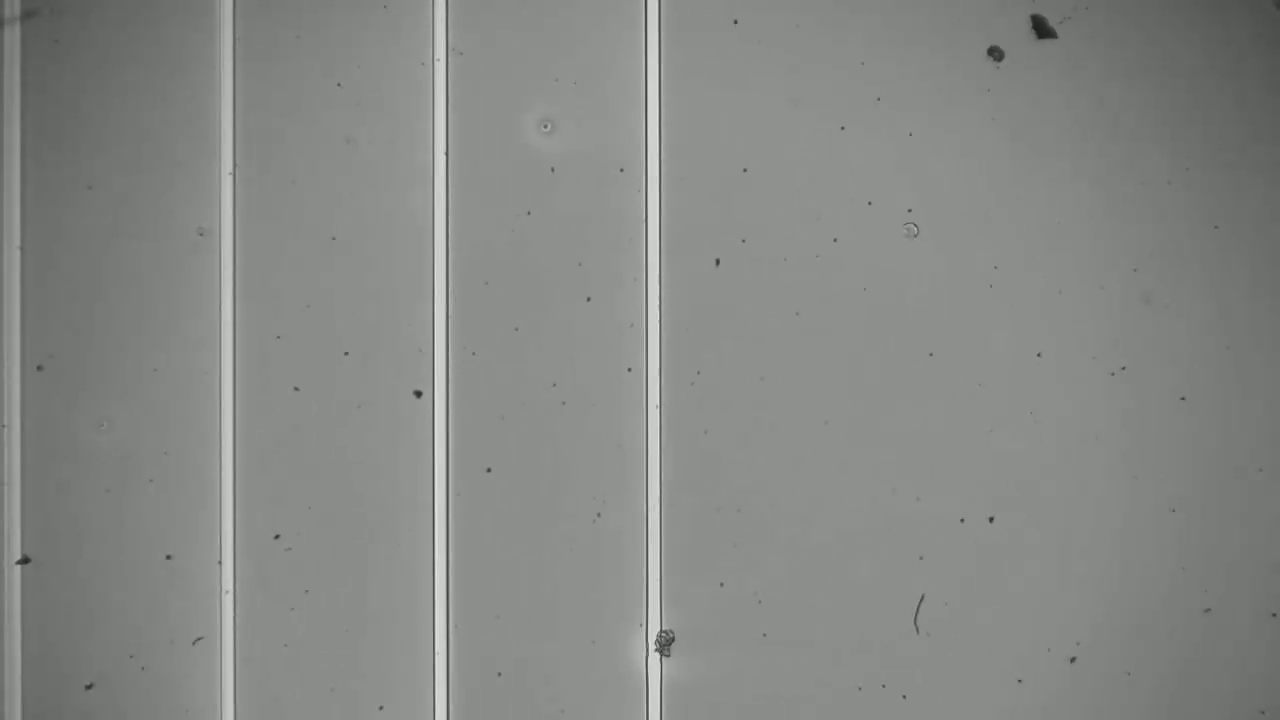stains_enbedded: (641, 625, 682, 663)
